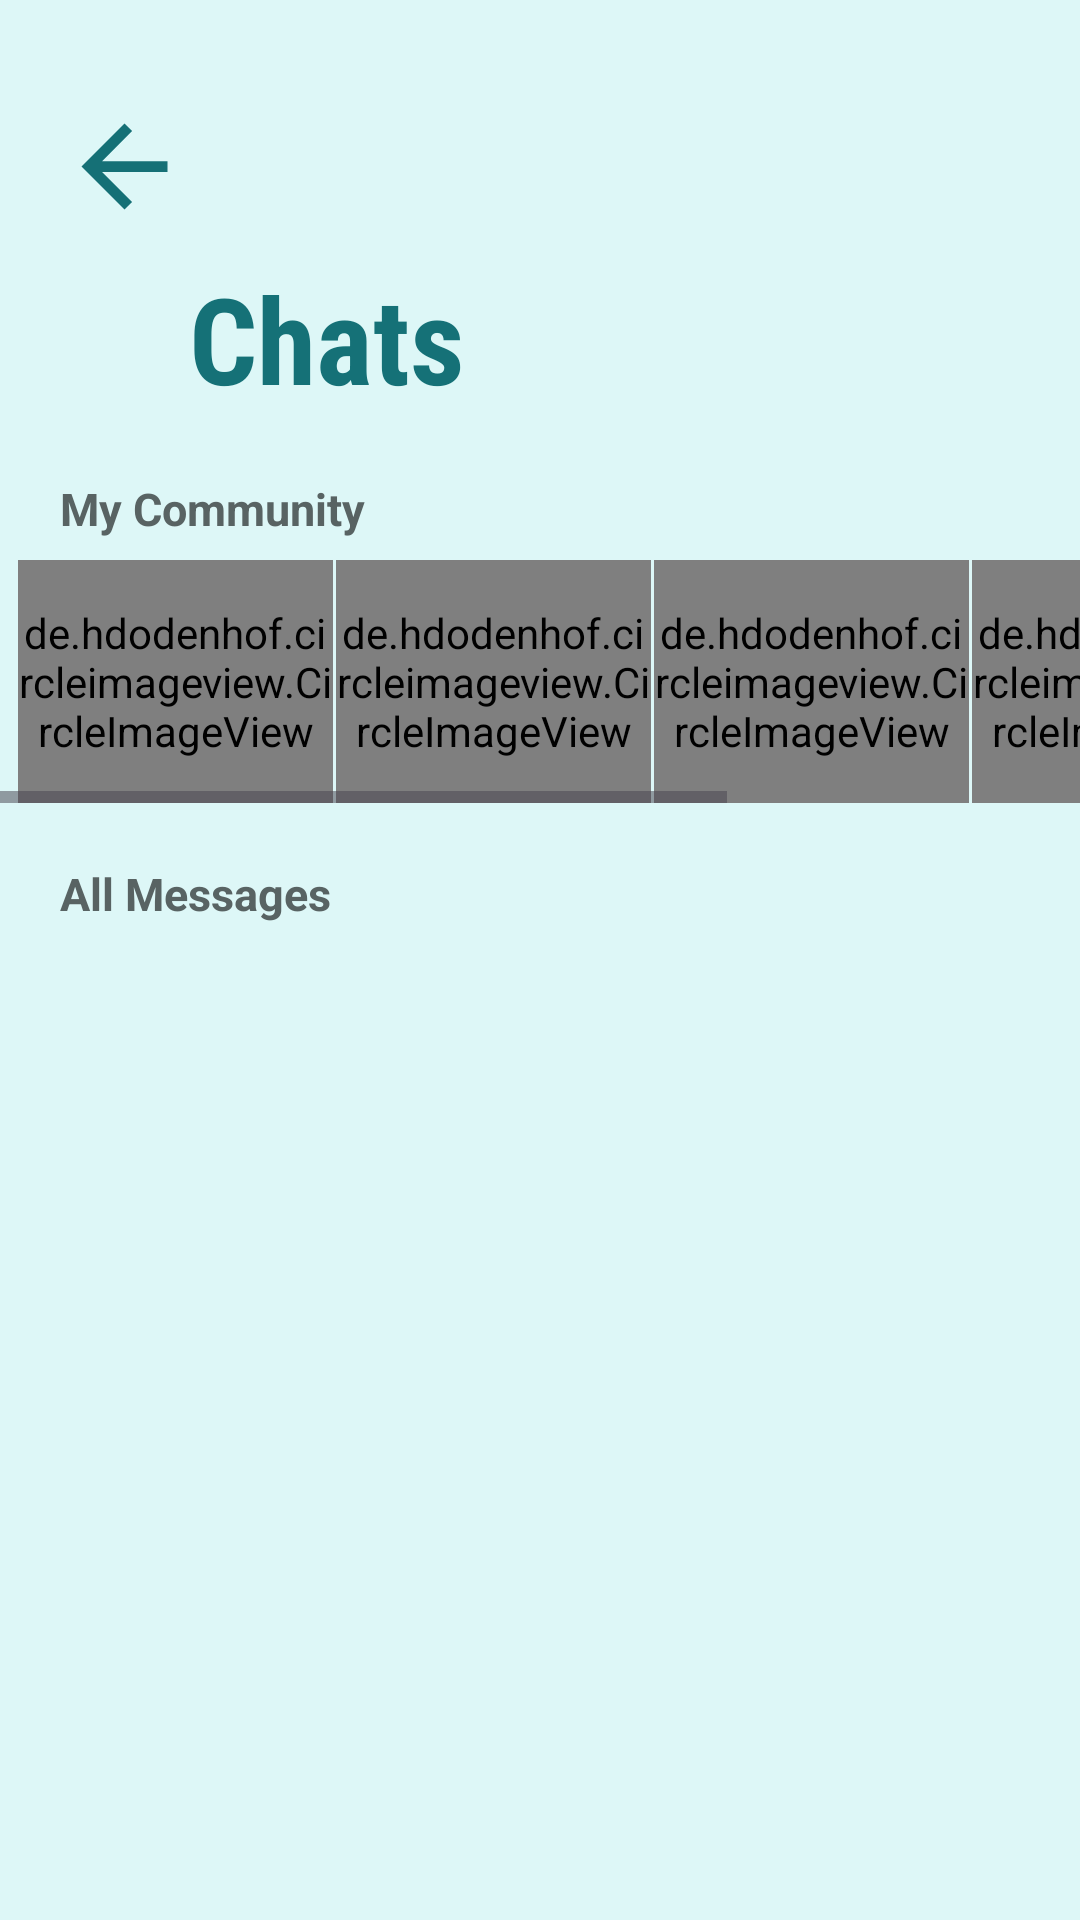

Icon bounding boxes for this 1080 x 1920 phone screenshot, format bbox=(x1, y1, x2, y2):
arrow back: bbox=(81, 123, 168, 210)
